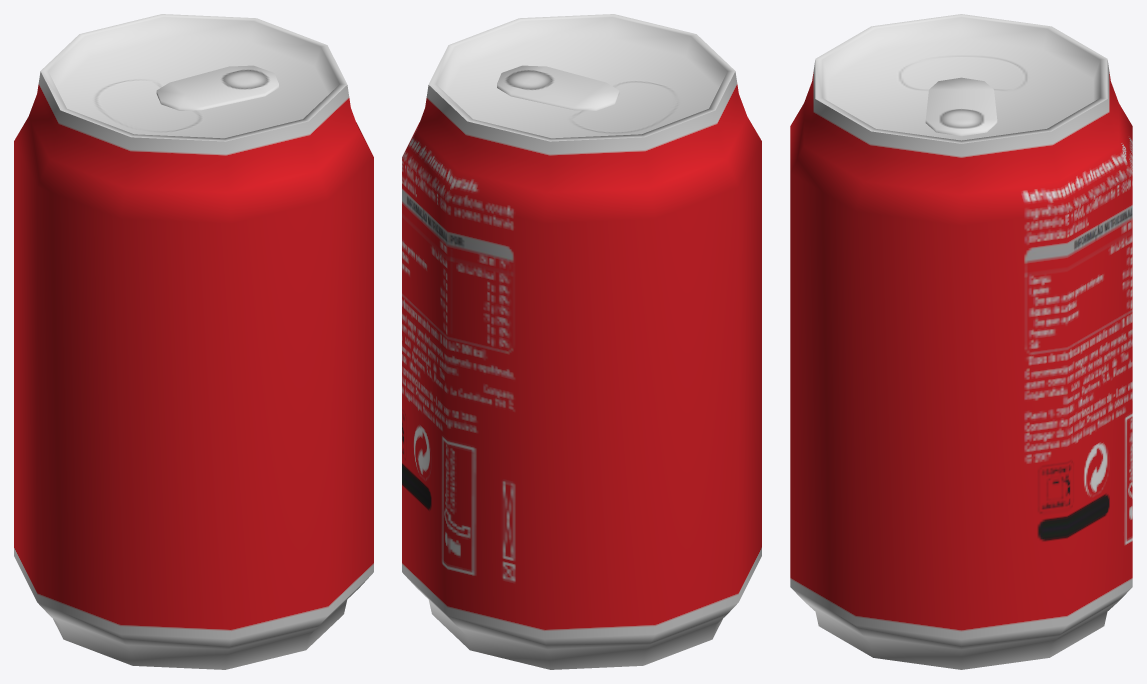
File: can.fbx
3 views of the same model, side by side, from view 1: azimuth 30°, elevation 25°; view 2: azimuth 150°, elevation 25°; view 3: azimuth 270°, elevation 25° (orthographic).
Visible parts, largest first — view 1: cola_can_mesh; view 2: cola_can_mesh; view 3: cola_can_mesh.
Part boxes in pixels (<box>): cola_can_mesh: <box>14,14,373,669</box>; cola_can_mesh: <box>402,14,761,669</box>; cola_can_mesh: <box>790,14,1132,669</box>.
Bounding box in the file's own units: 11.73 × 18.95 × 11.15.
